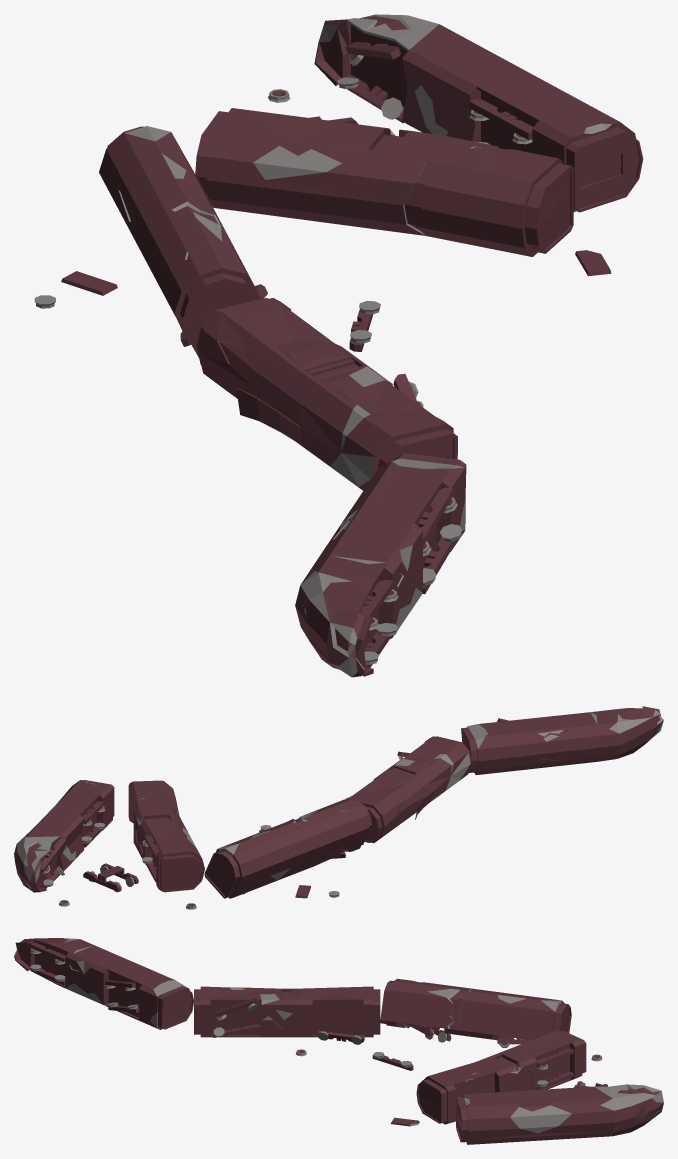
File: train-speed-derailment-apocalypse.fbx
3 renders of one model, top to bottom at view 1: azimuth 30°, elevation 25°; view 2: azimuth 150°, elevation 25°; view 3: azimuth 270°, elevation 25°, orthographic. The views are drawn at different scales.
Visible parts, largest first — view 1: train-speed-derailment-apocalypse; view 2: train-speed-derailment-apocalypse; view 3: train-speed-derailment-apocalypse.
Part boxes in pixels (left/top/right/bottom): train-speed-derailment-apocalypse: left=34, top=14, right=643, bottom=677; train-speed-derailment-apocalypse: left=14, top=706, right=663, bottom=909; train-speed-derailment-apocalypse: left=14, top=938, right=663, bottom=1144.
Size of the model in its own units: 32.1 by 4.08 by 48.47.
